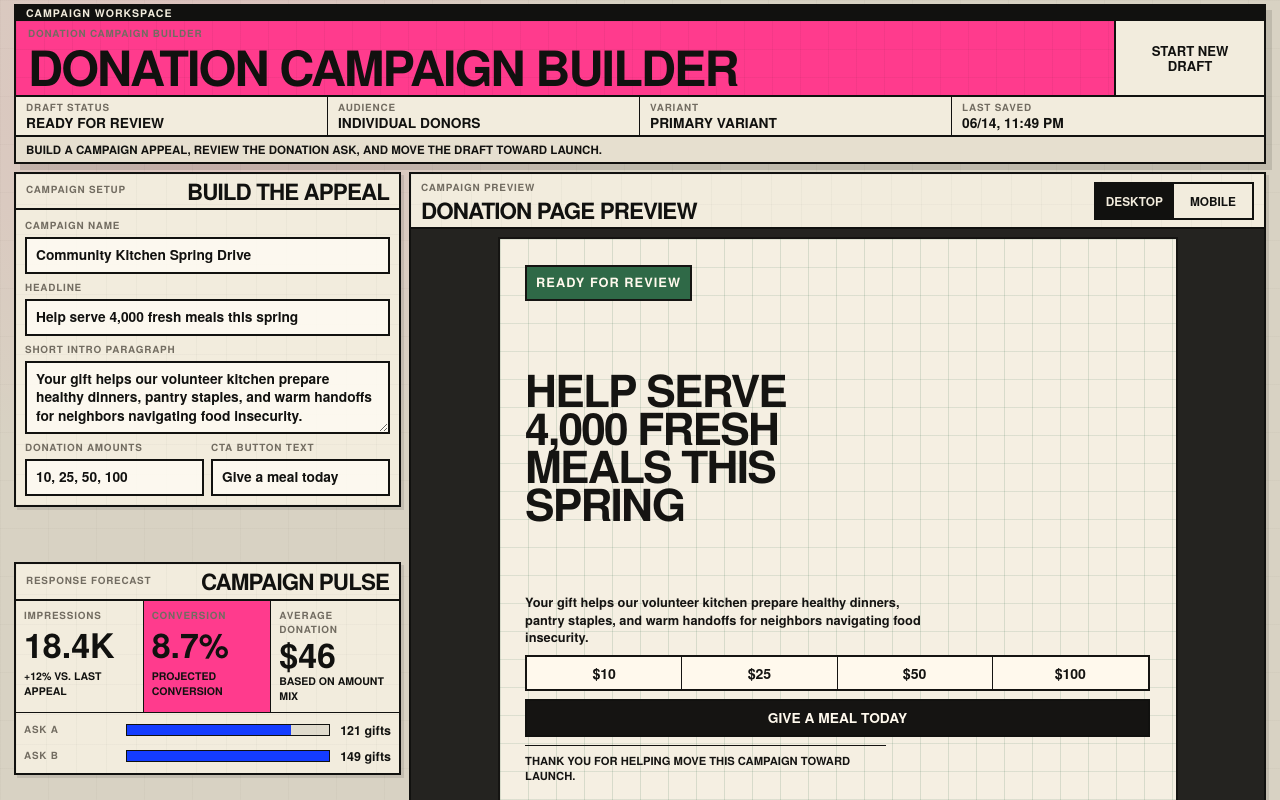
updates campaign variant label when preview mode changes
Check: the text "Primary variant" is shown, box [650,114,777,133]
Click the button "Mobile". click: (1213, 201)
box: [1174,184,1252,218]
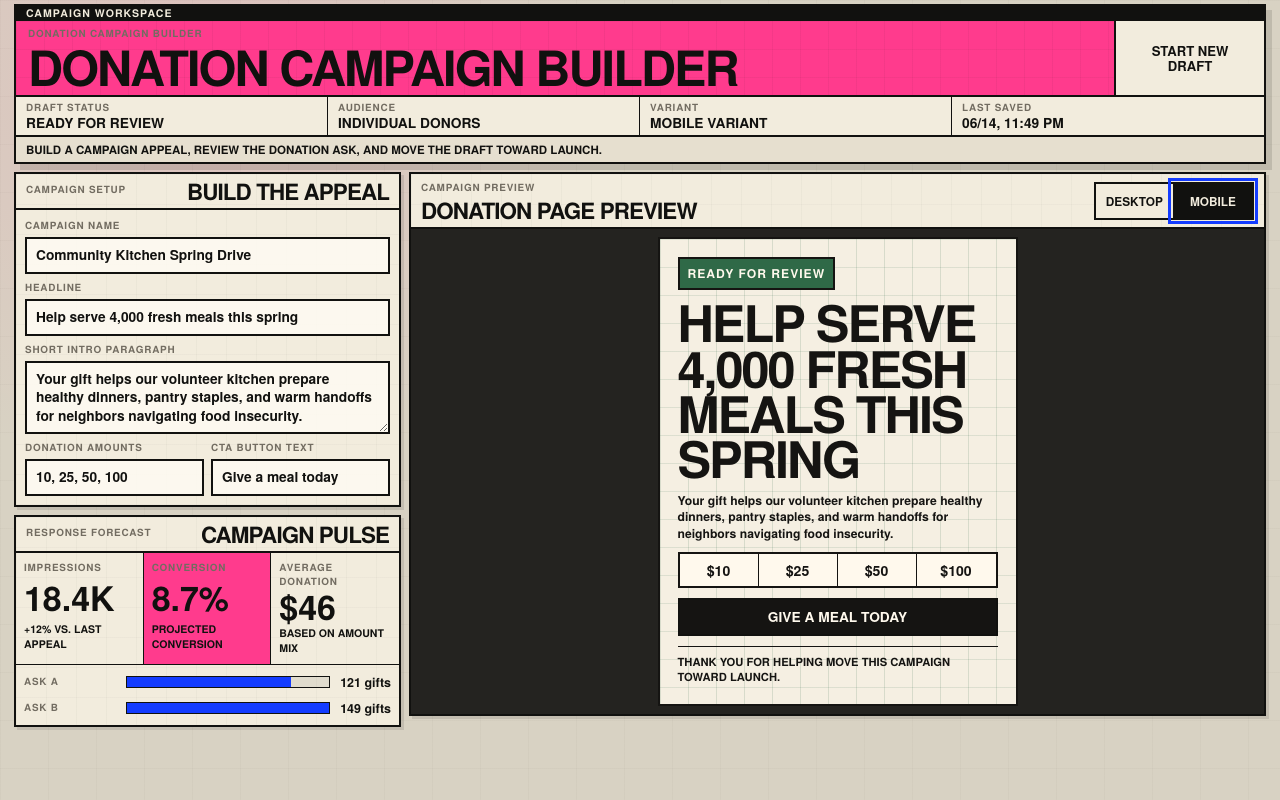
Check: the text "Mobile variant" is shown, box [650,114,768,133]
